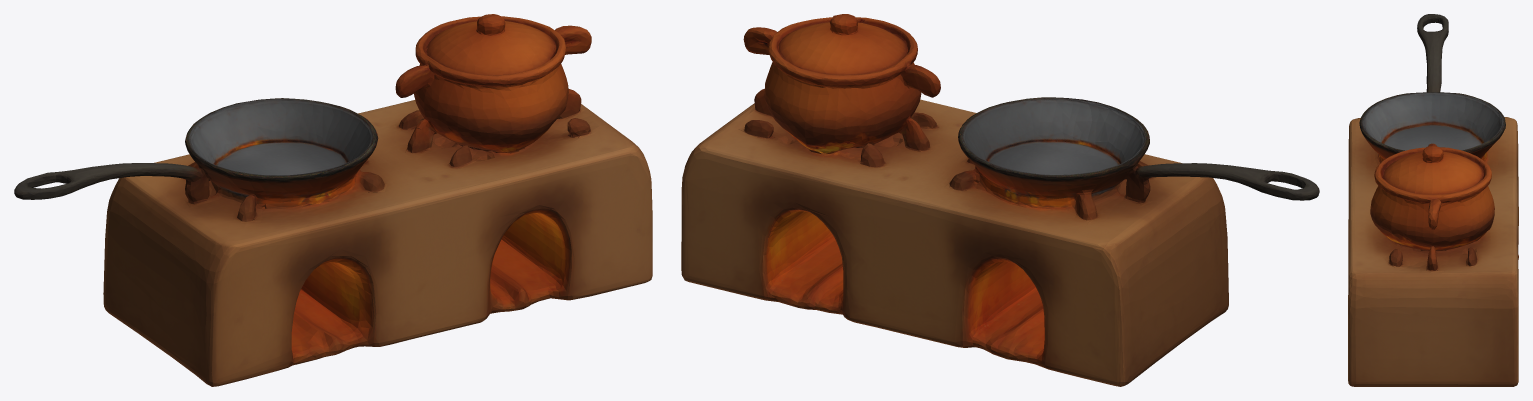
File: LoBep.glb
3 renders of one model, left to right at view 1: azimuth 30°, elevation 25°; view 2: azimuth 150°, elevation 25°; view 3: azimuth 270°, elevation 25°, orthographic. The views are drawn at different scales.
Parts seen in each view (by area): view 1: world; view 2: world; view 3: world.
Part boxes in pixels (x1,y1,x2,y2): world: (14,14,652,386); world: (681,14,1319,386); world: (1348,14,1518,386).
Bounding box in the file's own units: 0.9976 × 0.4146 × 0.3214.
Materials: 1 (1 with a texture image).
